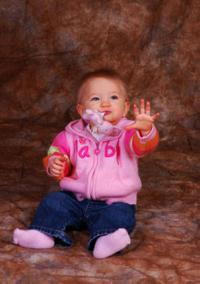person: (13, 69, 159, 259)
